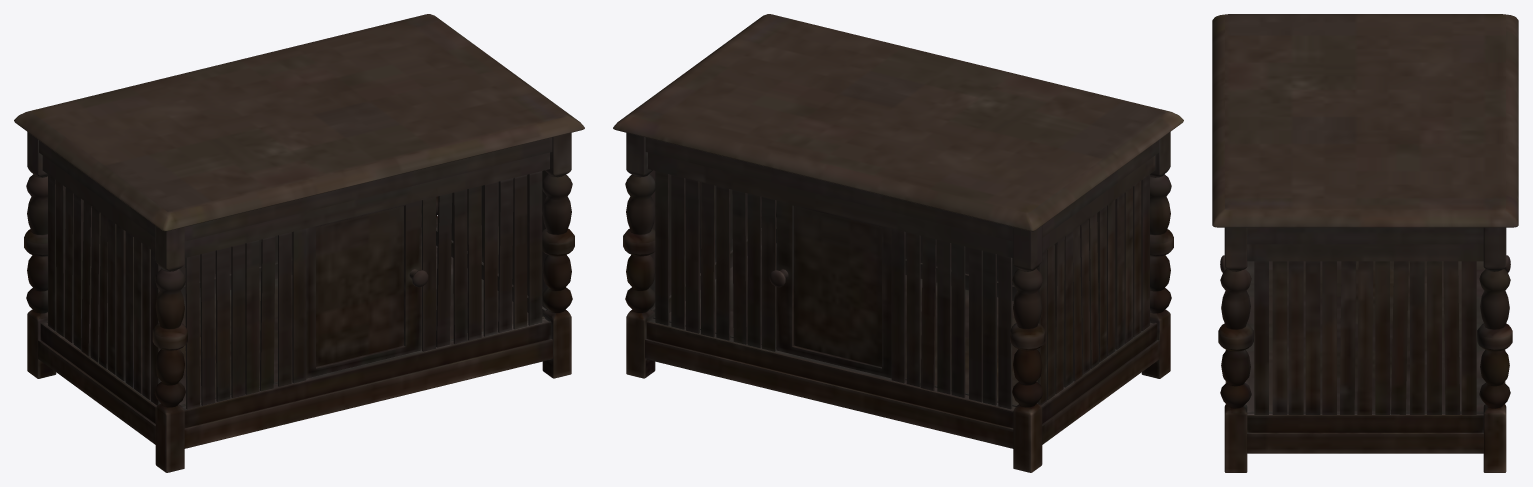
The model's file is gallinera_table.glb.
3 views of the same model, side by side, from view 1: azimuth 30°, elevation 25°; view 2: azimuth 150°, elevation 25°; view 3: azimuth 270°, elevation 25° (orthographic).
Parts seen in each view (by area): view 1: gallinera_table; view 2: gallinera_table; view 3: gallinera_table.
Part boxes in pixels (x1=…): gallinera_table: x1=14, y1=14, x2=584, y2=472; gallinera_table: x1=613, y1=14, x2=1183, y2=472; gallinera_table: x1=1212, y1=14, x2=1518, y2=472.
Size of the model in its own units: 0.8301 by 0.4878 by 0.5183.
1 material, 1 textured.
